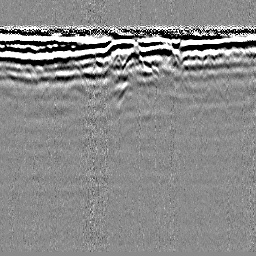cavity: (121, 48, 144, 69)
